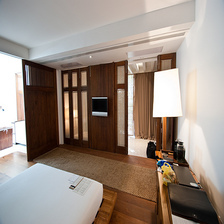laptop: (170, 163, 202, 191)
